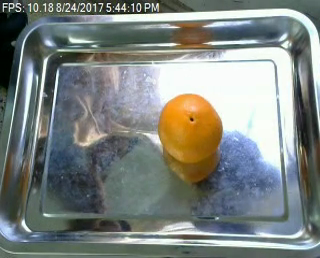Orange: (159, 92, 223, 163)
